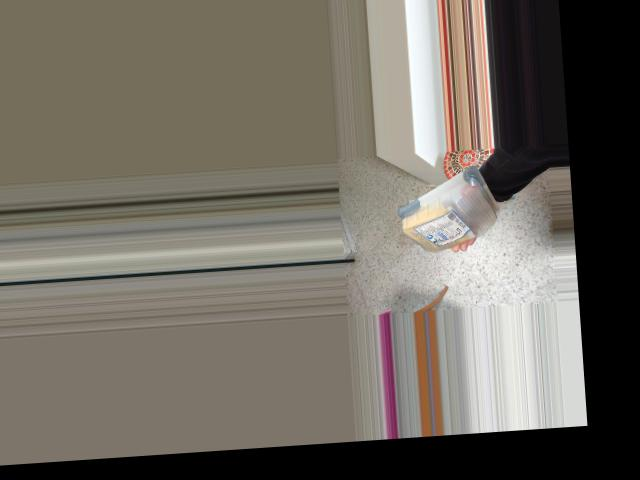cheese: (391, 165, 517, 256)
